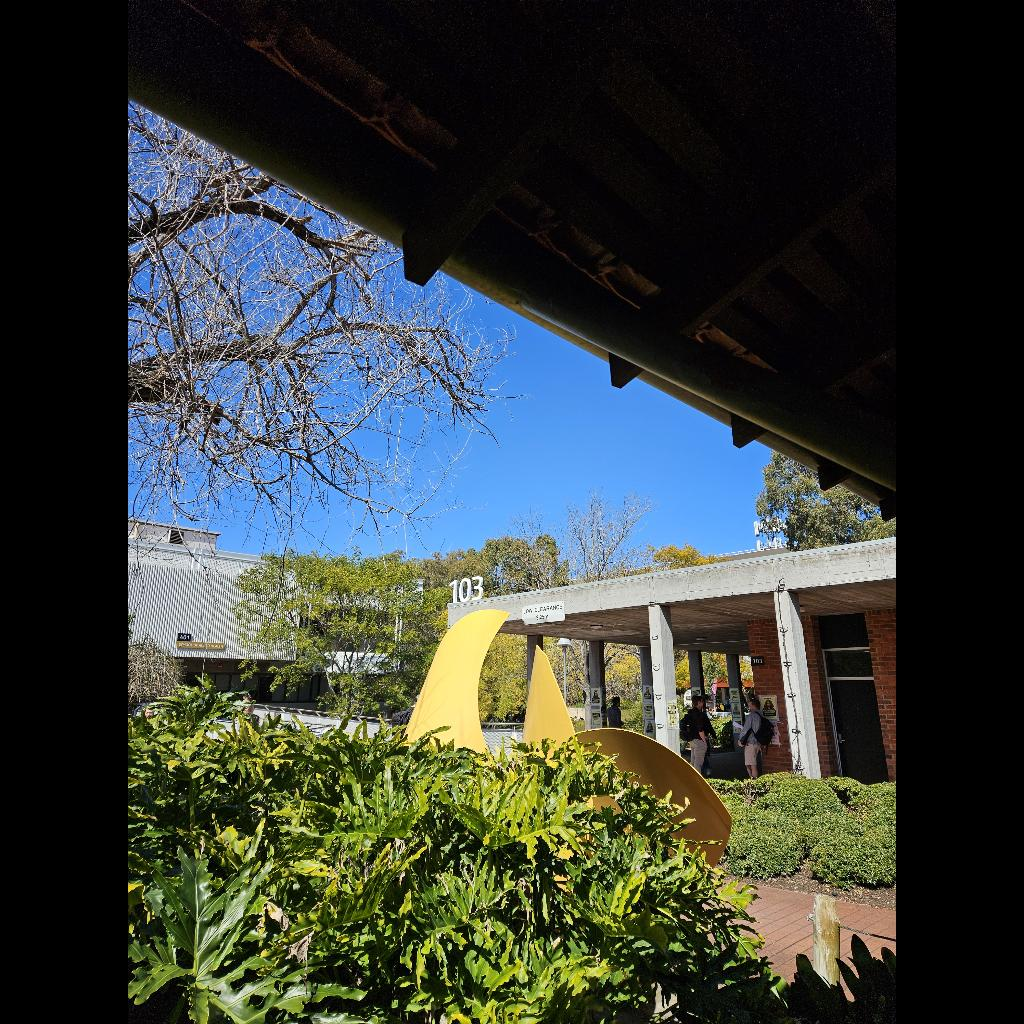BuildingCodes: (449, 574, 485, 604)
